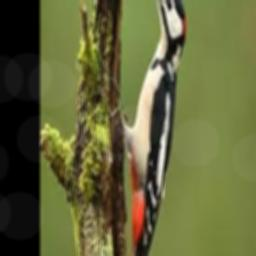Woodpecker: (108, 0, 185, 256)
